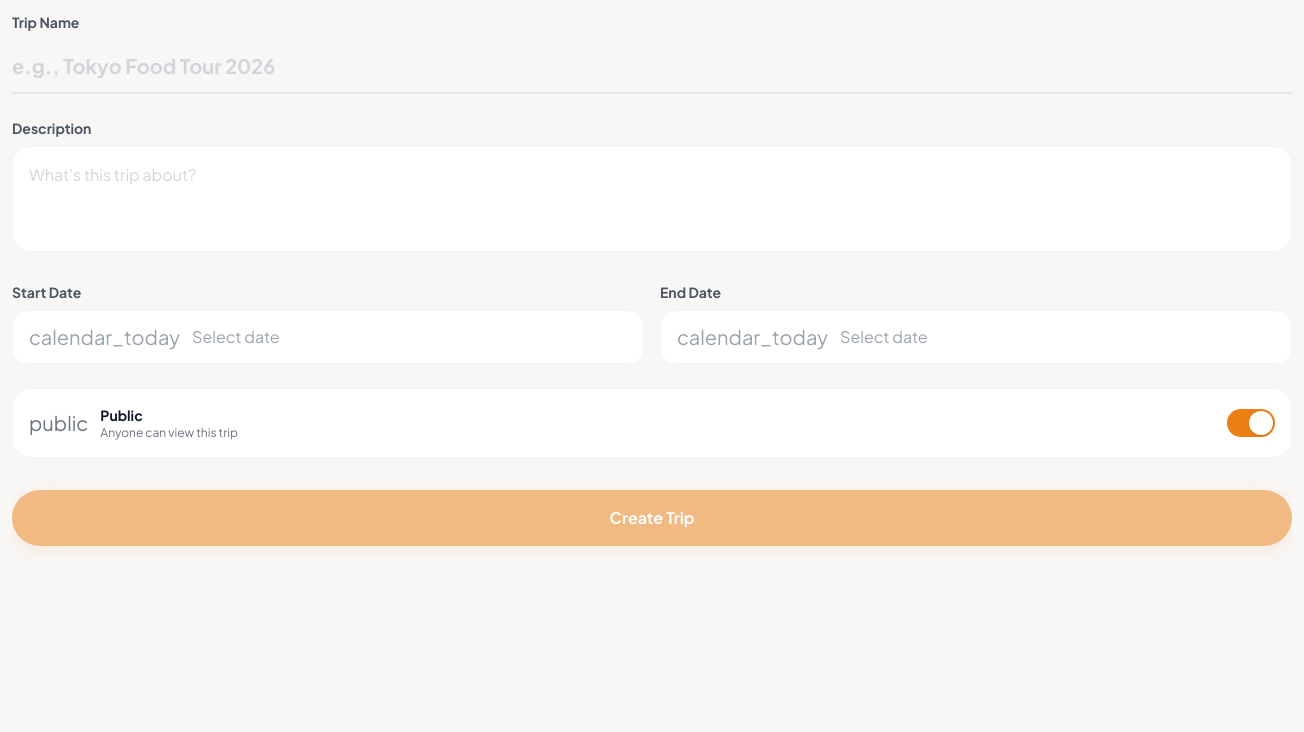
Test: TripForm › toggles public/private
Expected: the text "Public" is shown, [100,406,143,424]
Click the switch at (1251,423), box [1227,409,1275,437]
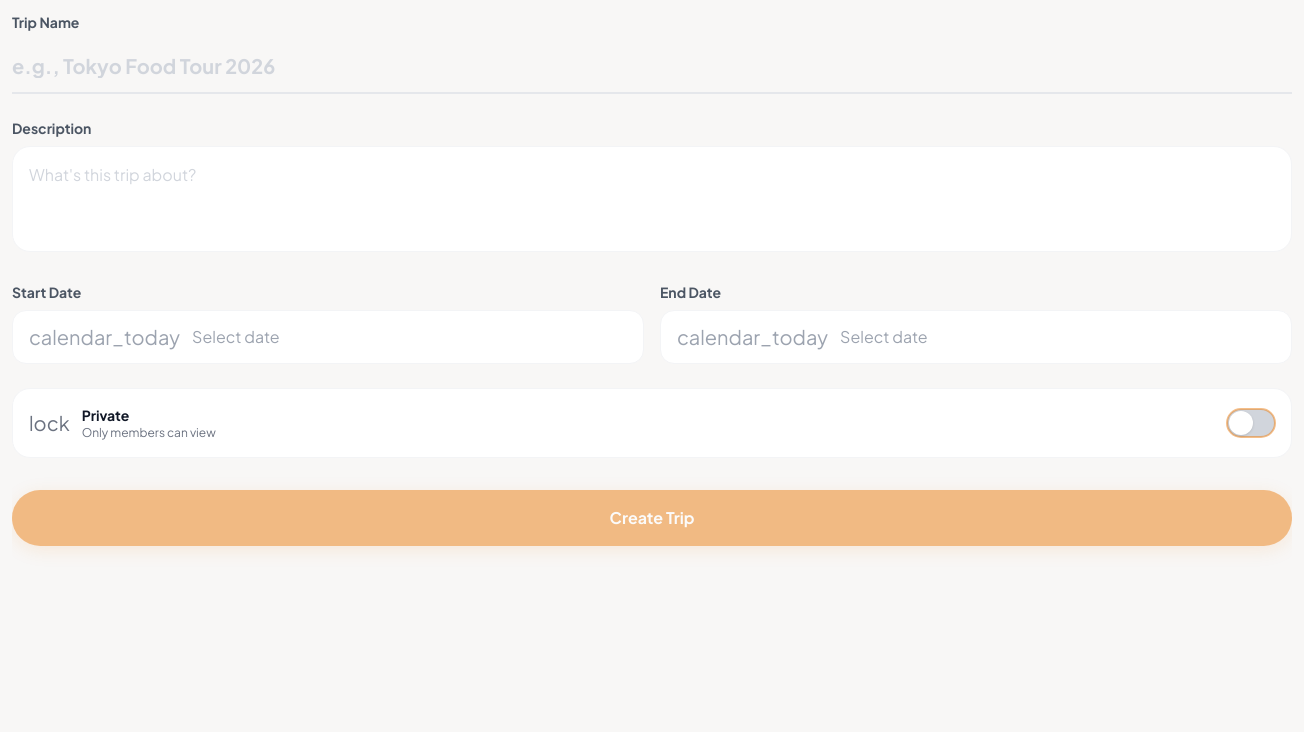
Now the text "Private" is shown, box [82,406,129,424]
